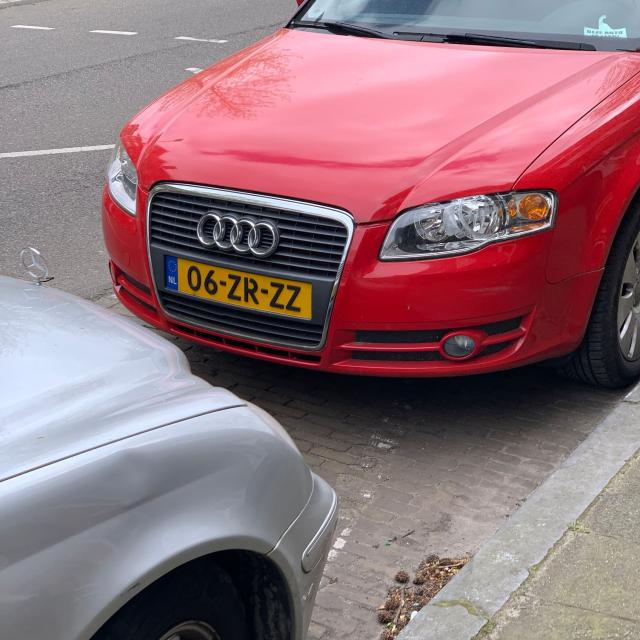plate: (161, 253, 314, 321)
